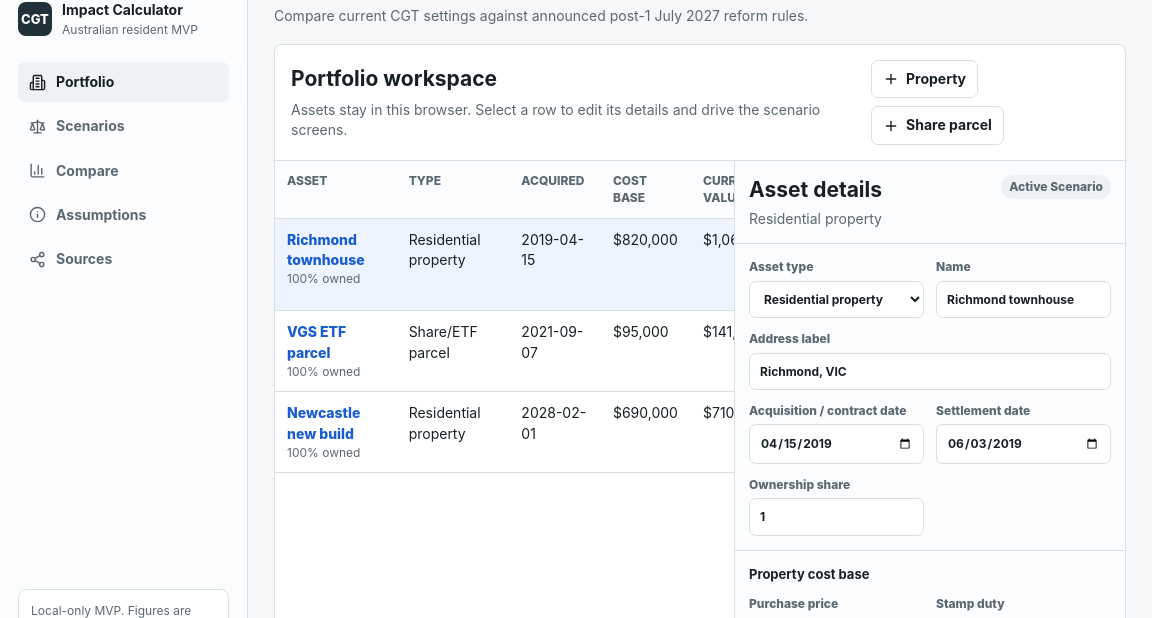
Scenario: App workspace › shows staged sale options for share parcels
This screenshot has width=1152, height=618.
(page scrolled)
Click the button "VGS ETF parcel".
click(336, 343)  # box [287, 322, 385, 363]
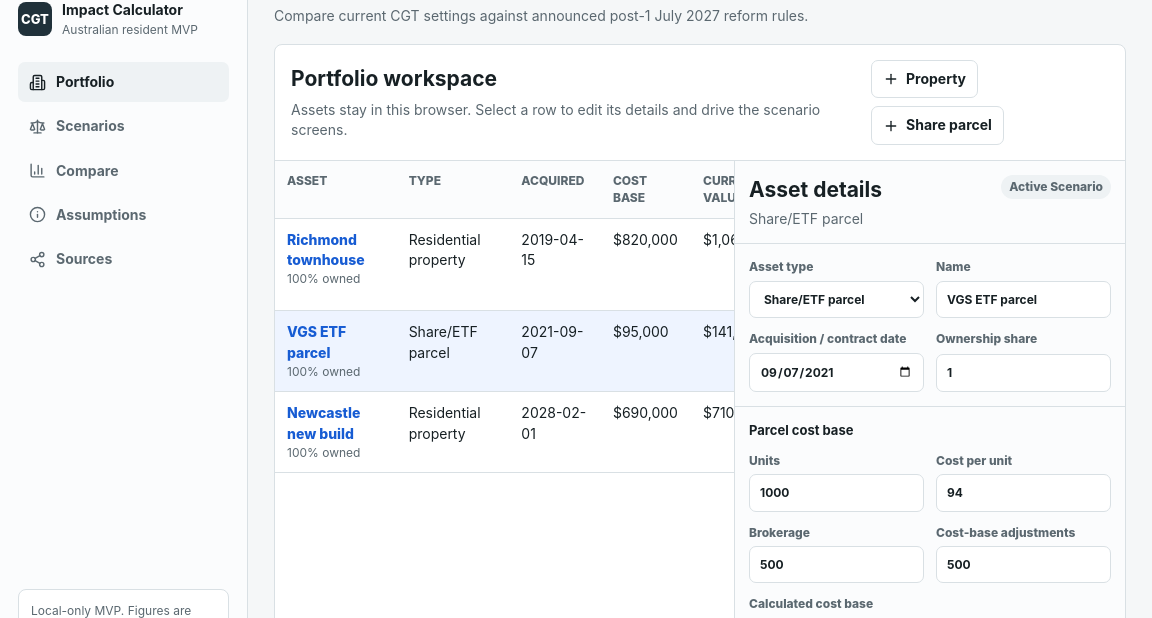
Click the button "Compare".
click(124, 170)  # box [18, 150, 229, 191]
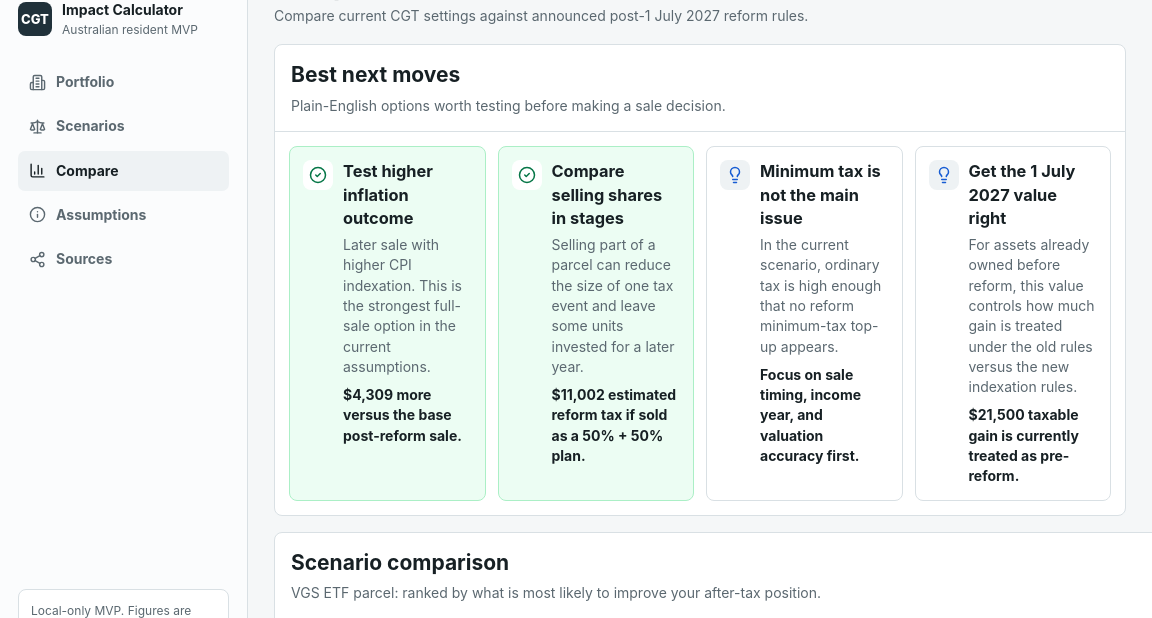
Check: the text "Compare selling shares in stages" is shown, box [552, 160, 680, 231]
